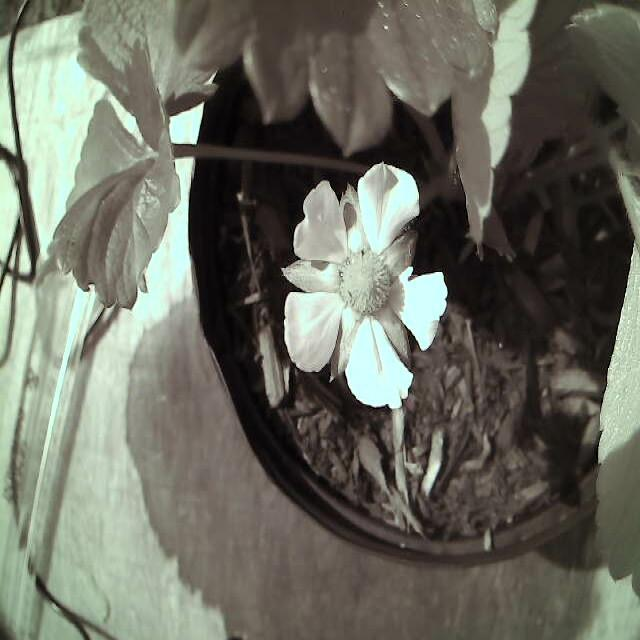flower: (282, 158, 452, 419)
